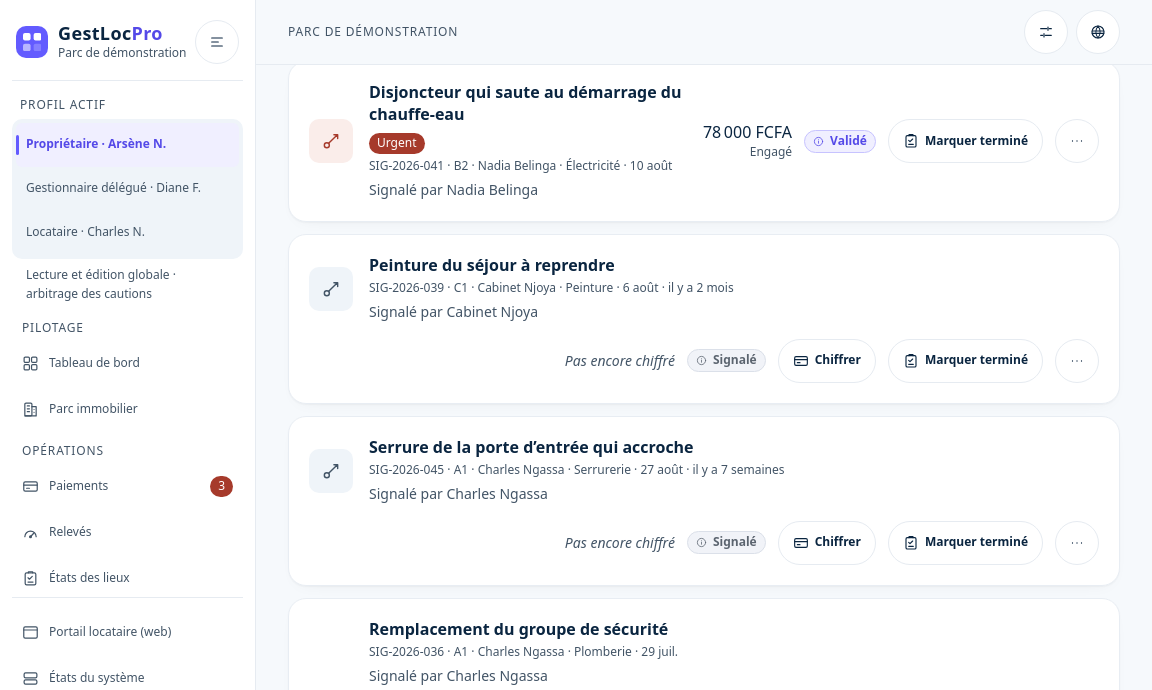
Test case: travaux — tri par origine et total engagé › nomme l’intervention et son logement avant de la chiffrer
The width and height of the screenshot is (1152, 690).
(page scrolled)
Click the button "Chiffrer" below "Signalé par Cabinet Njoya": click(827, 361) x1=778 y1=339 x2=876 y2=383
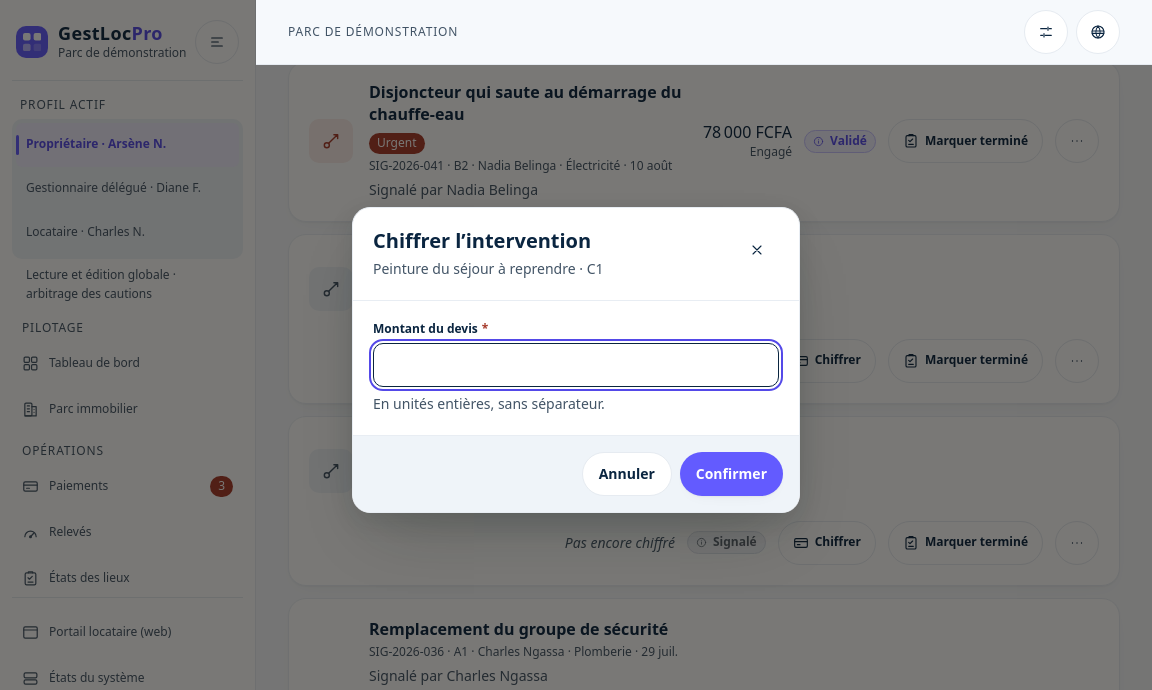
Now the dialog shows "Peinture du séjour à reprendre", box x1=373 y1=259 x2=604 y2=278
